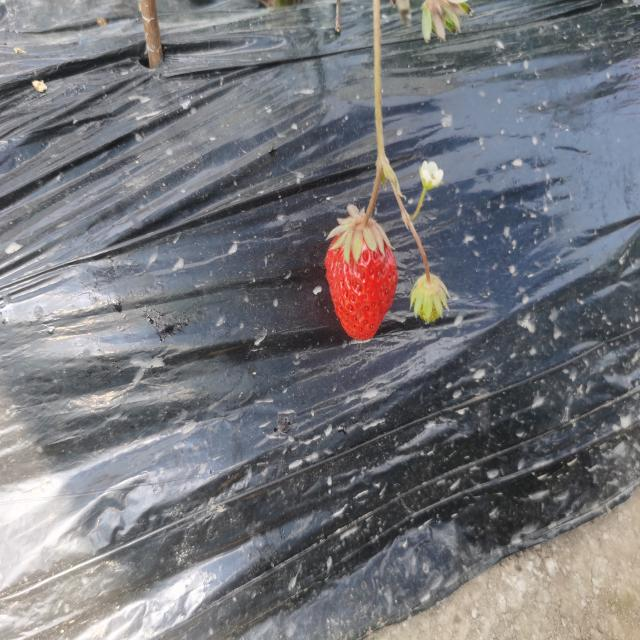stem: (359, 182, 380, 230)
strawberry: (325, 215, 398, 340)
